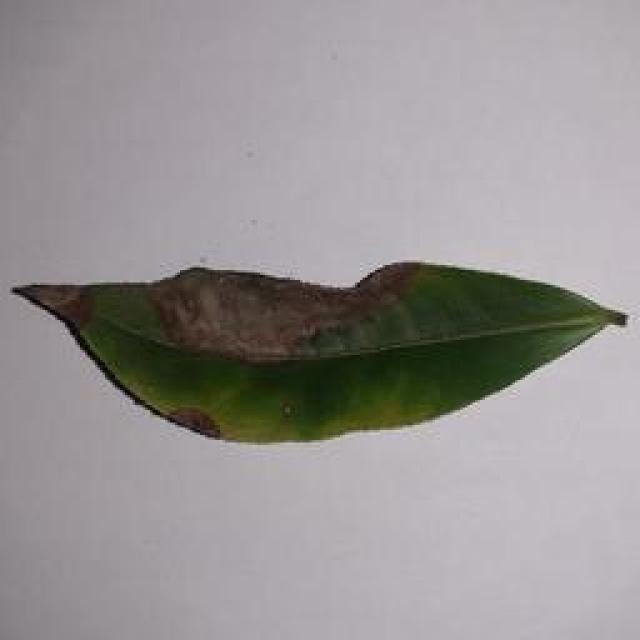Brown Blight: (2, 242, 640, 462)
